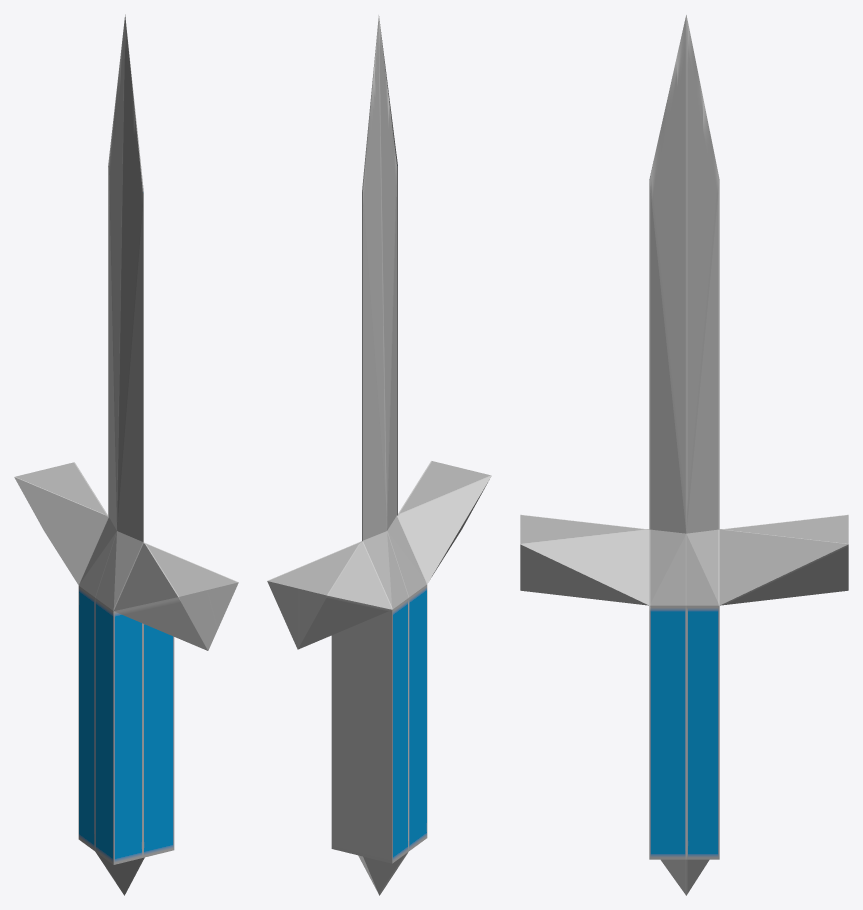
Rendered from Sword.fbx.
3 views of the same model, side by side, from view 1: azimuth 30°, elevation 25°; view 2: azimuth 150°, elevation 25°; view 3: azimuth 270°, elevation 25° (orthographic).
Parts seen in each view (by area): view 1: pCube1; view 2: pCube1; view 3: pCube1.
Part boxes in pixels (<box>): pCube1: <box>14,14,238,895</box>; pCube1: <box>267,15,491,895</box>; pCube1: <box>520,15,848,895</box>.
Size of the model in its own units: 0.2 by 2.78 by 0.9378.
1 material, 1 textured.
